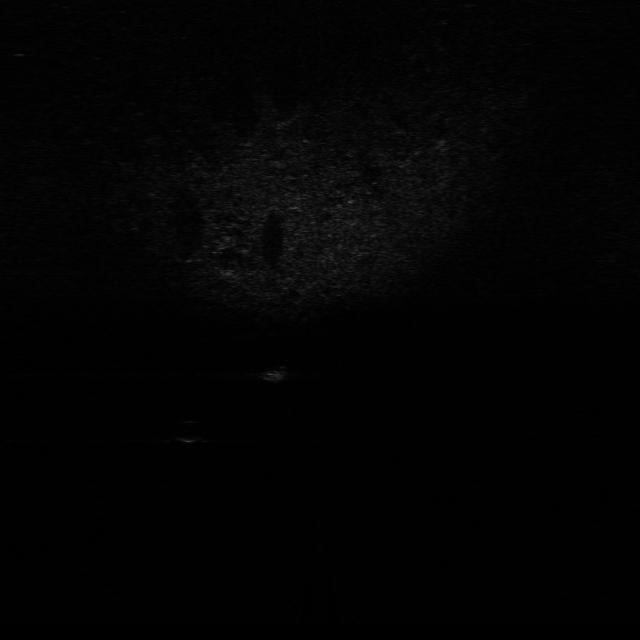ball: (166, 418, 208, 446)
cube: (259, 361, 297, 384)
